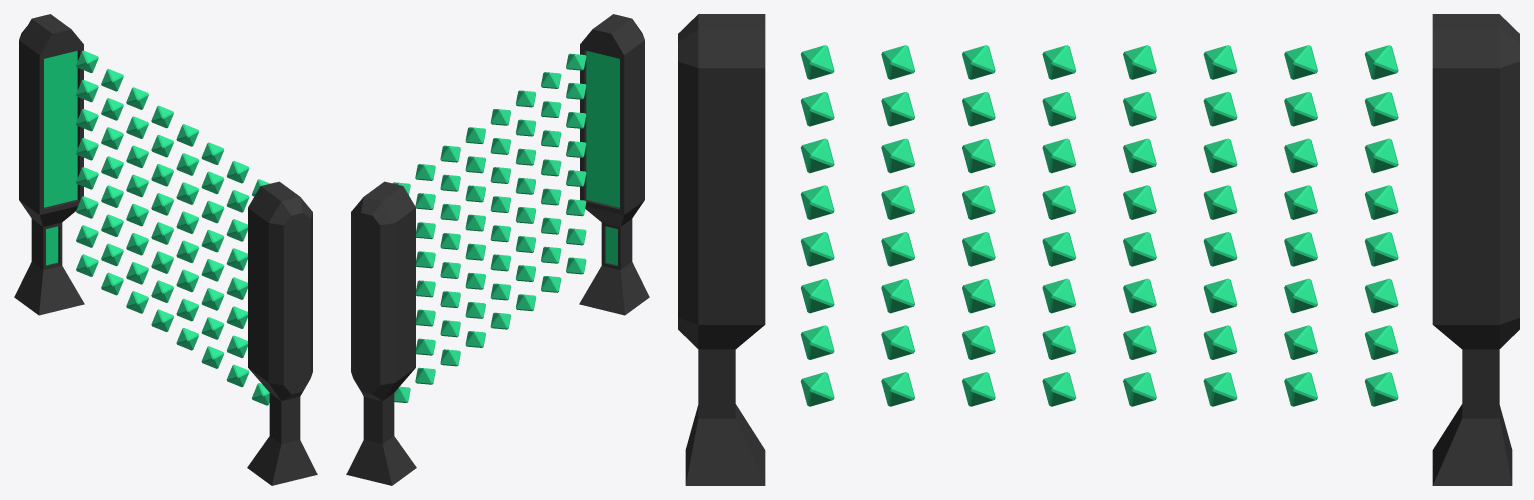
File: Sci_fi_PhysicalGate.fbx
The picture shows the model from 3 angles, left to right: view 1: azimuth 30°, elevation 25°; view 2: azimuth 150°, elevation 25°; view 3: azimuth 270°, elevation 25°; orthographic projection. The views are drawn at different scales.
Parts seen in each view (by area): view 1: Cube.011, Cube.012, Cube.048, Cube.066, Cube.077, Cube.026, Cube.028, Cube.034, Cube.050, Cube.069, Cube.030, Cube.037 (+46 smaller); view 2: Cube.012, Cube.011; view 3: Cube.011, Cube.012.
Boxes of the visible parts, <box> form: Cube.011: <box>247,181,317,485</box>; Cube.012: <box>14,14,84,315</box>; Cube.048: <box>101,98,123,120</box>; Cube.066: <box>126,291,148,313</box>; Cube.077: <box>126,87,148,109</box>; Cube.026: <box>201,230,224,252</box>; Cube.028: <box>201,288,224,310</box>; Cube.034: <box>176,269,198,292</box>; Cube.050: <box>101,156,123,178</box>; Cube.069: <box>76,225,98,247</box>; Cube.030: <box>176,153,198,175</box>; Cube.037: <box>151,164,173,186</box>; Cube.012: <box>346,181,416,485</box>; Cube.011: <box>579,14,649,315</box>; Cube.011: <box>678,14,765,485</box>; Cube.012: <box>1432,14,1519,485</box>.
Size of the model in its own units: 1.48 by 8.56 by 14.62.
